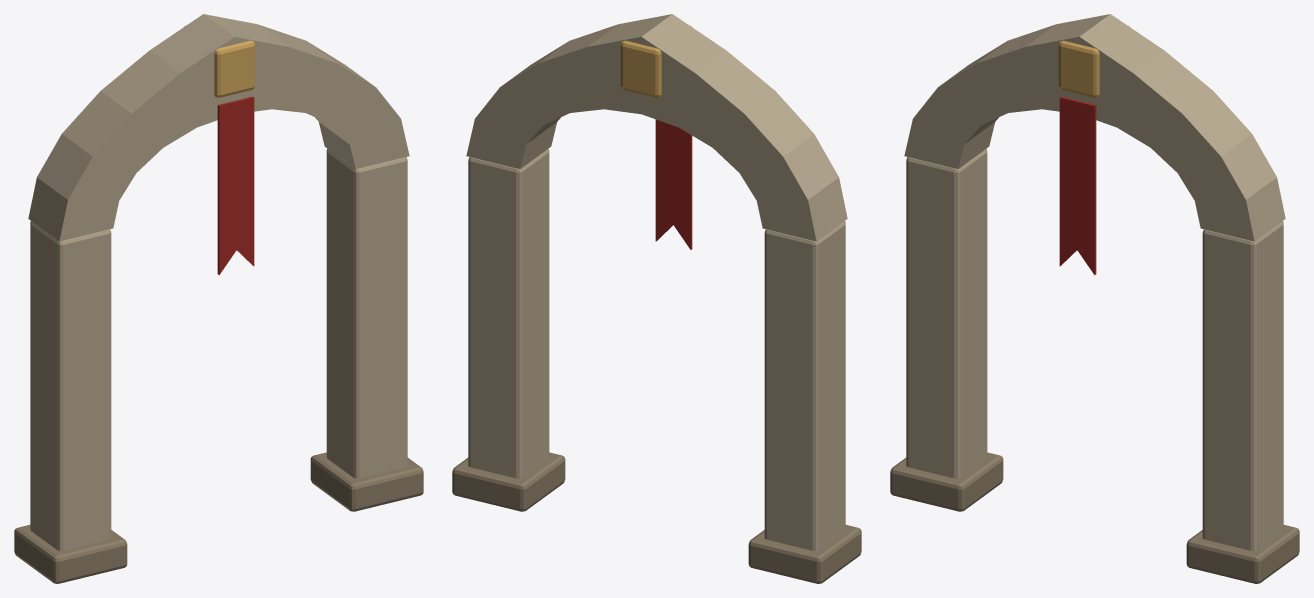
Rendered from arch.glb.
3 renders of one model, left to right at view 1: azimuth 30°, elevation 25°; view 2: azimuth 150°, elevation 25°; view 3: azimuth 330°, elevation 25°, orthographic.
Parts seen in each view (by area): view 1: arch; view 2: arch; view 3: arch.
Boxes of the visible parts, x1,y1,x2,y2 form: arch: (14,14,423,583); arch: (452,14,861,583); arch: (890,14,1299,583).
Size of the model in its own units: 2.75 by 3.55 by 0.55.
